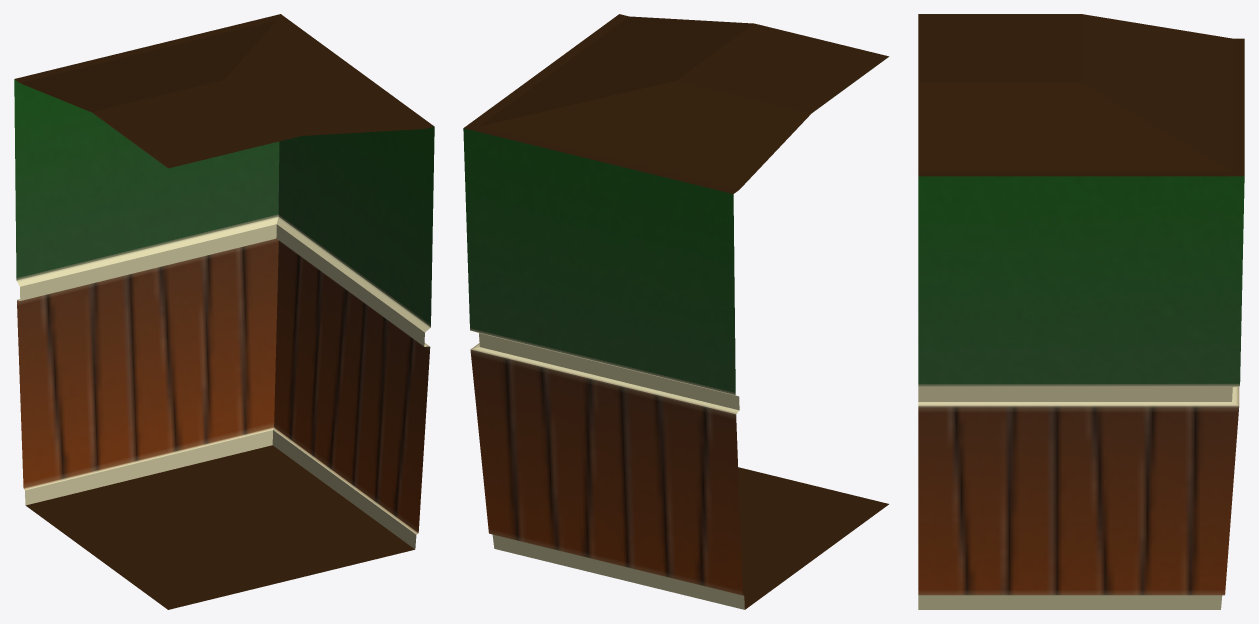
The model's file is Corner_Inward.fbx.
3 views of the same model, side by side, from view 1: azimuth 30°, elevation 25°; view 2: azimuth 150°, elevation 25°; view 3: azimuth 270°, elevation 25° (orthographic). The views are drawn at different scales.
Visible parts, largest first — view 1: Corner_Inwards; view 2: Corner_Inwards; view 3: Corner_Inwards.
Part boxes in pixels (x1,y1,x2,y2): Corner_Inwards: [14, 14, 434, 609]; Corner_Inwards: [463, 14, 889, 609]; Corner_Inwards: [918, 14, 1244, 609].
Size of the model in its own units: 2 by 3.17 by 2.
